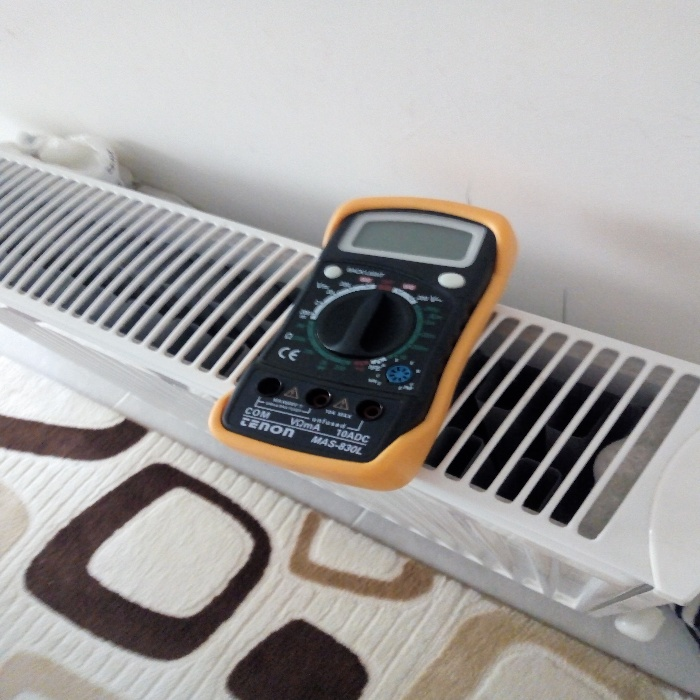multimetre: (198, 174, 516, 485)
